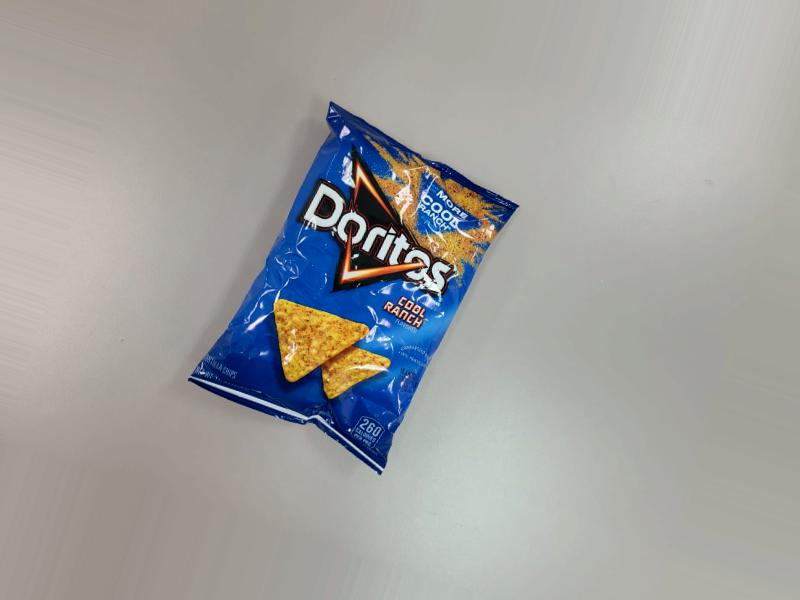doritos: (160, 99, 541, 486)
